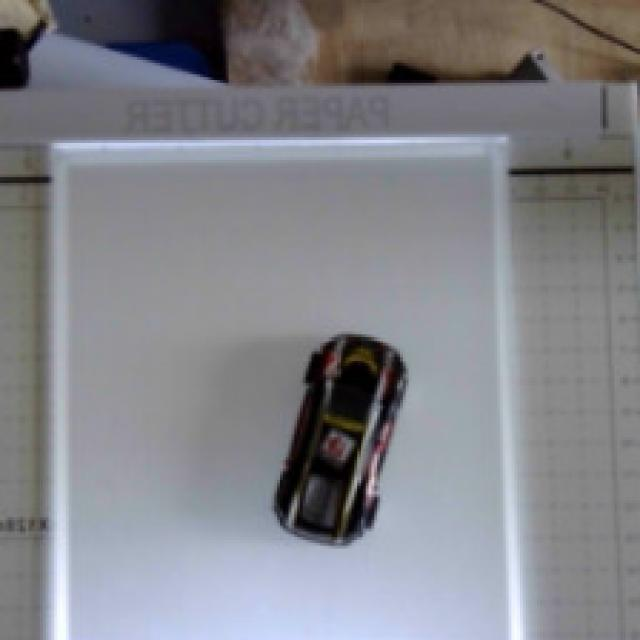Red Car: (222, 309, 449, 558)
